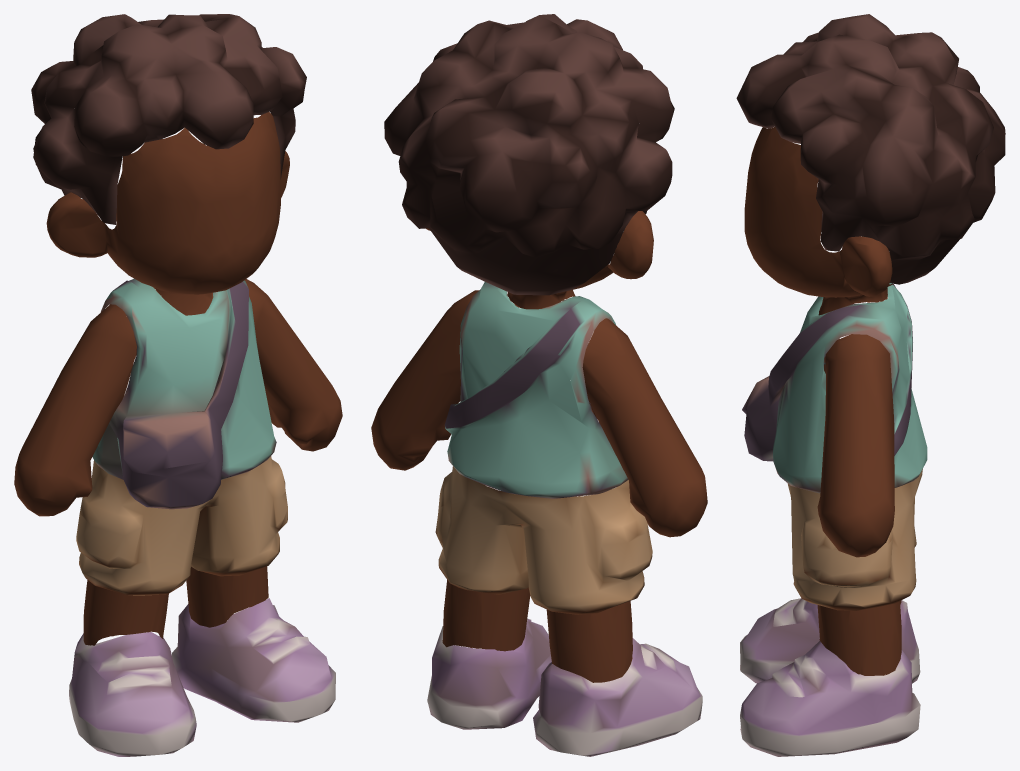
3 renders of one model, left to right at view 1: azimuth 30°, elevation 25°; view 2: azimuth 150°, elevation 25°; view 3: azimuth 270°, elevation 25°, orthographic. The views are drawn at different scales.
Parts seen in each view (by area): view 1: hair, top, head, skirt, shoe_l, hand_r, shoe_r, hand_l, leg_r, leg_l; view 2: hair, top, skirt, hand_r, shoe_r, shoe_l, hand_l, leg_r, leg_l, head; view 3: hair, top, hand_l, shoe_l, head, skirt, shoe_r, leg_l.
Part boxes in pixels (x1,y1,x2,y2): hair: (31, 14, 306, 224); top: (92, 278, 276, 509); head: (46, 112, 289, 315); skirt: (76, 456, 287, 595); shoe_l: (172, 598, 335, 722); hand_r: (14, 304, 136, 516); shoe_r: (69, 632, 196, 756); hand_l: (244, 279, 342, 451); leg_r: (83, 580, 168, 645); leg_l: (186, 566, 268, 627); hair: (384, 14, 674, 295); top: (444, 282, 628, 498); skirt: (435, 466, 652, 614); hand_r: (582, 318, 707, 537); shoe_r: (533, 638, 702, 756); shoe_l: (427, 618, 551, 729); hand_l: (371, 290, 478, 470); leg_r: (546, 601, 632, 682); leg_l: (442, 580, 530, 651); head: (425, 211, 653, 309); hair: (736, 14, 1005, 284); top: (742, 283, 927, 493); hand_l: (817, 334, 894, 557); shoe_l: (740, 641, 920, 756); head: (744, 127, 893, 315); skirt: (787, 469, 922, 610); shoe_r: (740, 598, 920, 683); leg_l: (817, 601, 901, 675).
Bounding box in the file's own units: 0.5048 × 1.03 × 0.3753.
